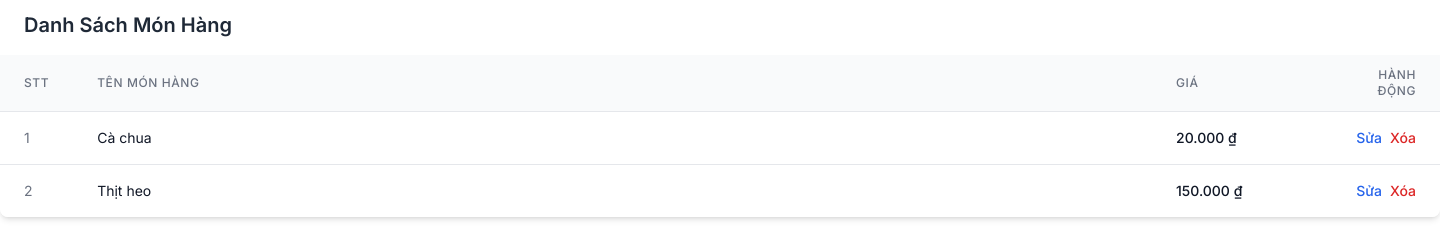
ItemList Component › Inline Editing › should cancel edit mode when clicking Hủy button
Click the button "Sửa" in the row of "Cà chua".
click(1369, 138)  # box top-left (1356, 128), bottom-right (1382, 148)
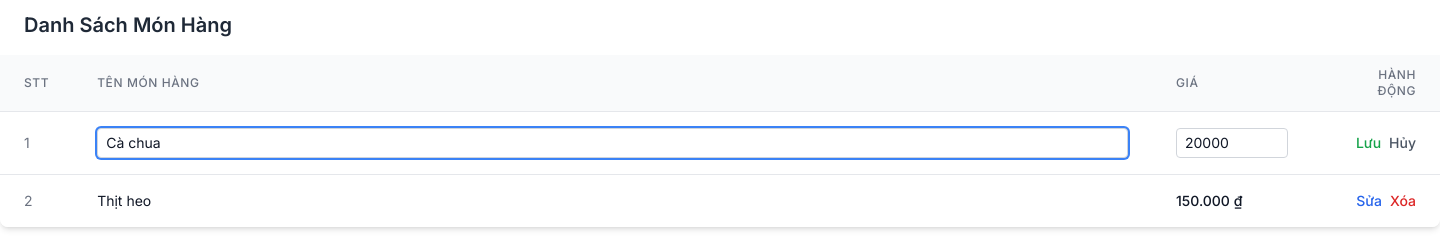
Click the button "Hủy".
click(1403, 143)  # box top-left (1389, 133), bottom-right (1416, 153)
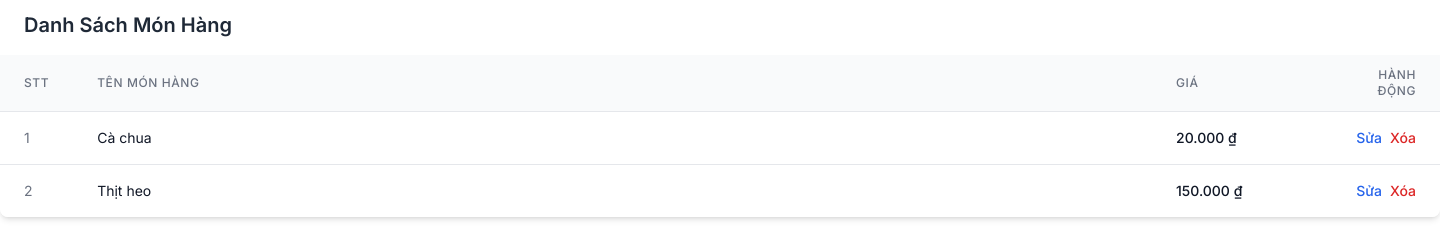
Result: the text "Cà chua" is shown at top-left (97, 129), bottom-right (152, 146)
